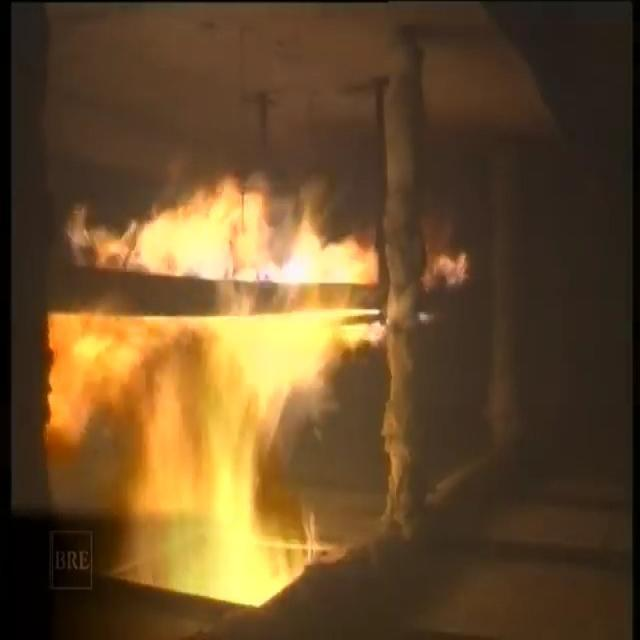Fire: (34, 150, 466, 637)
